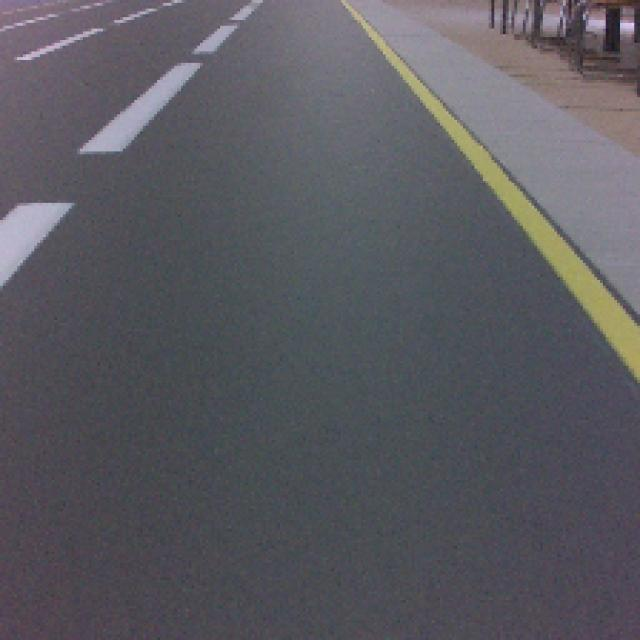Road: (0, 223, 640, 638)
